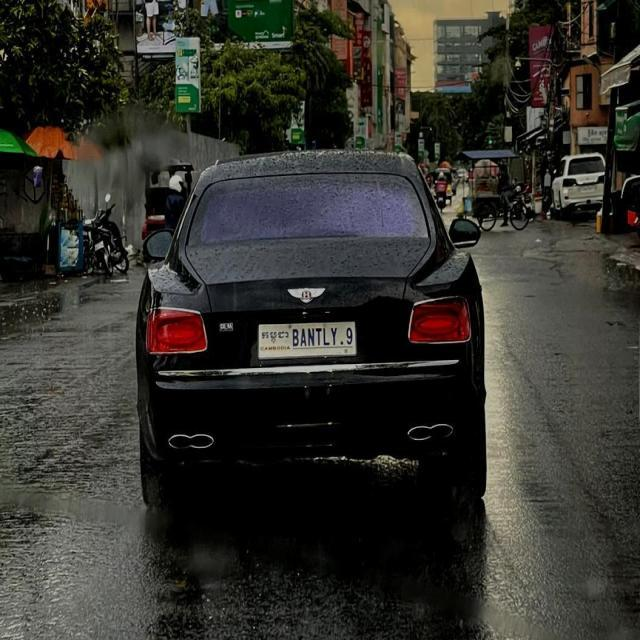Cambodia: (260, 327, 290, 344)
